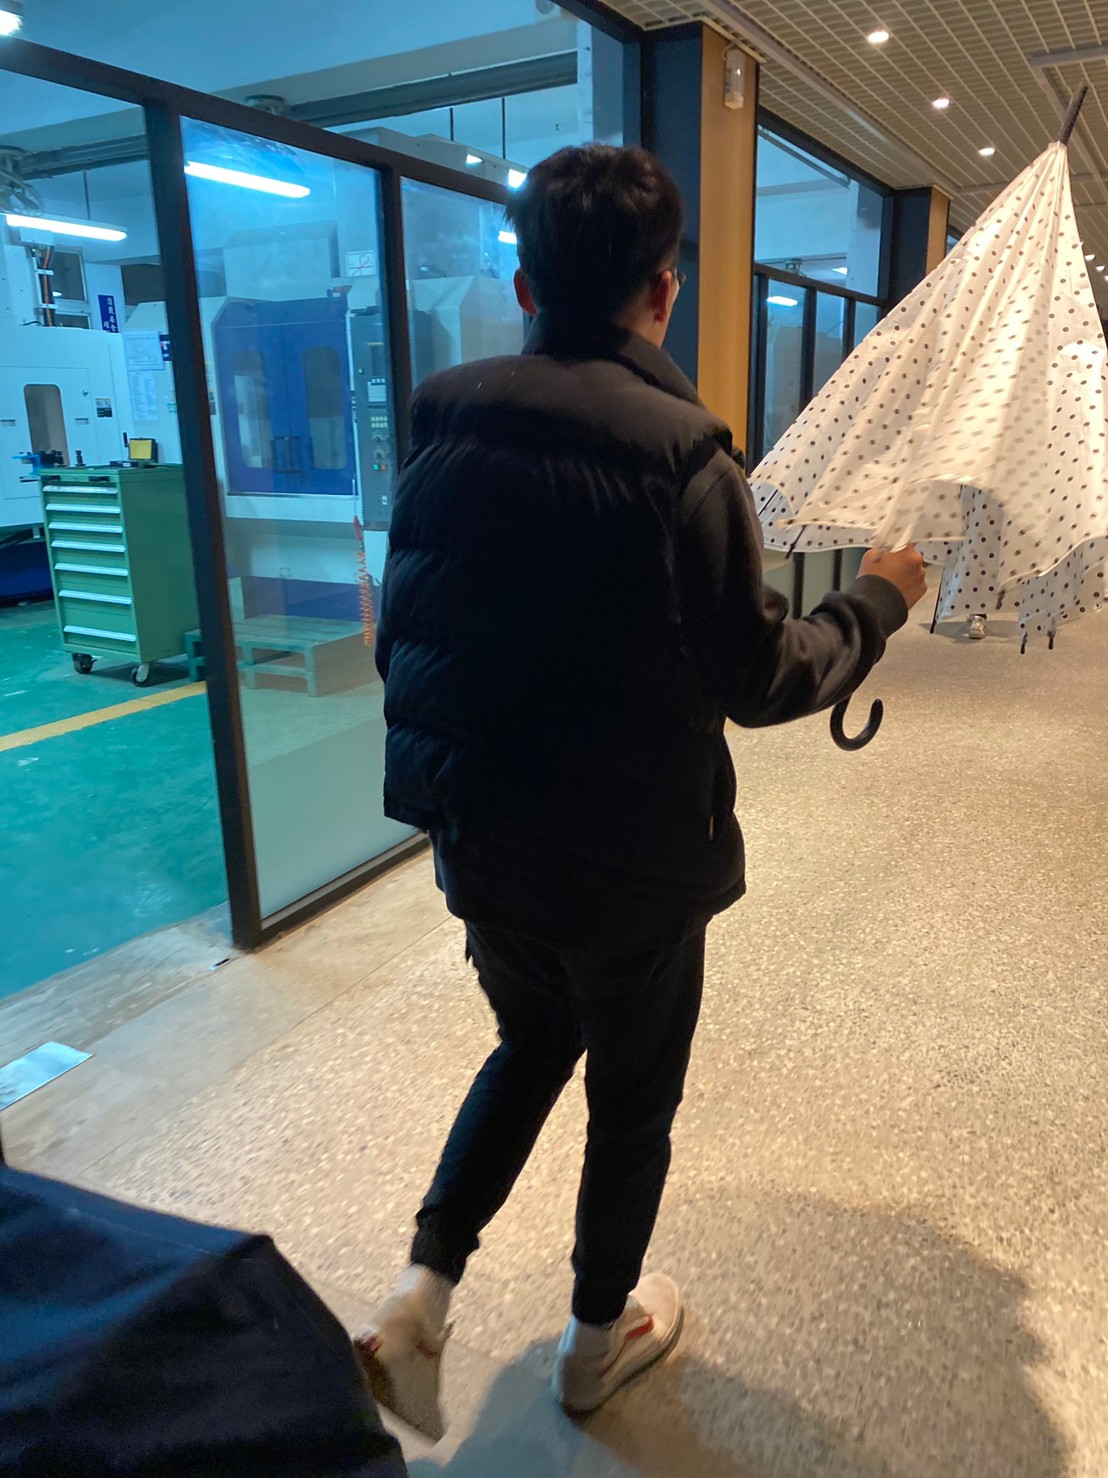people: (445, 128, 726, 1419)
